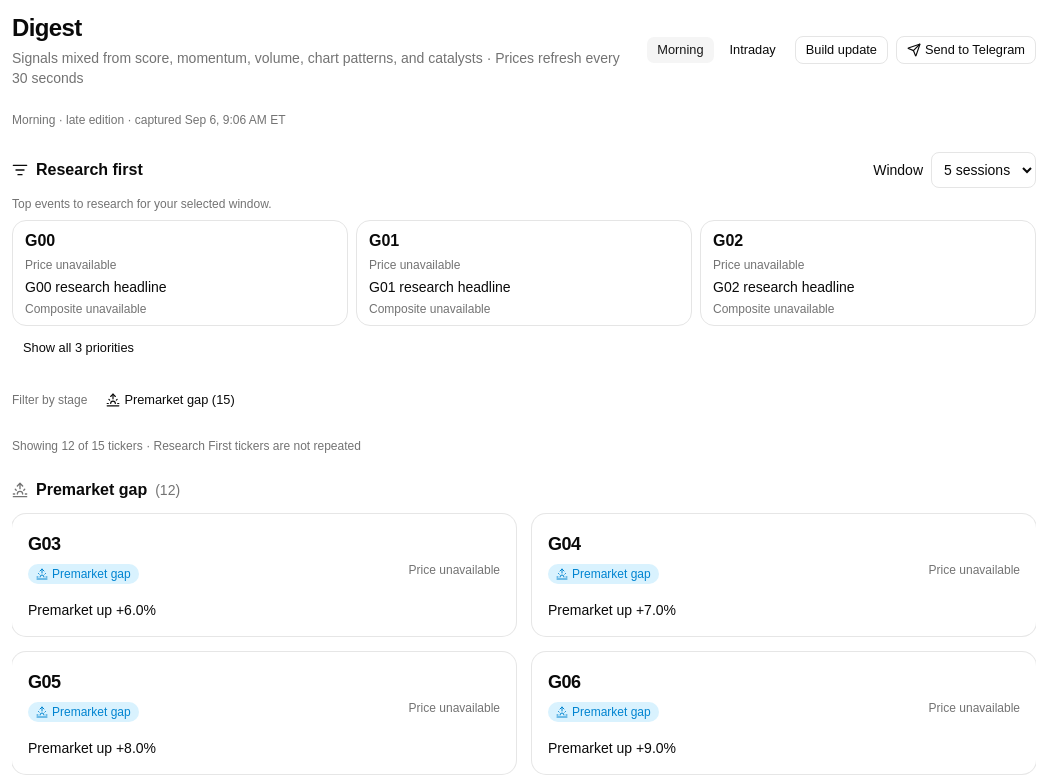
Test case: a stage filter shows every match and clearing it restores the compact view
Click the button "Premarket gap (15)" at (171, 400), box [95, 386, 246, 414]
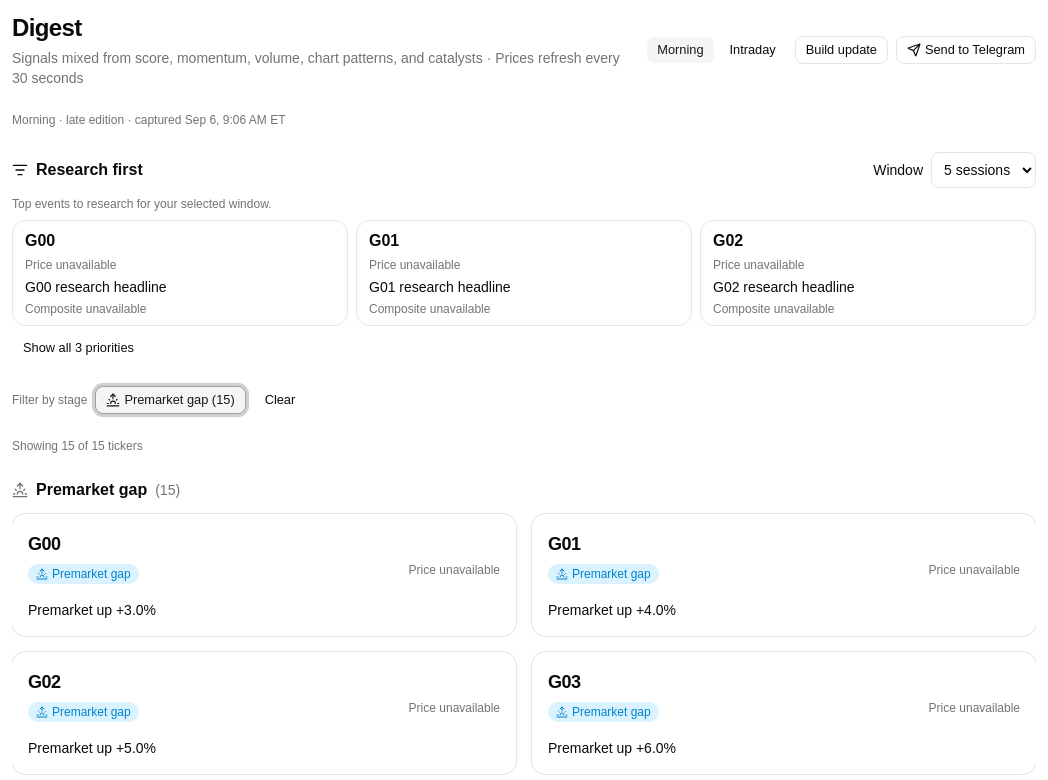
Expected: the link "G00" is shown, [28, 534, 61, 554]
Expected: the text with test id "digest-coverage-count" reads "Showing 15 of 15 tickers", [12, 439, 143, 453]
Click the button "Clear" at (280, 400), box [254, 386, 306, 414]
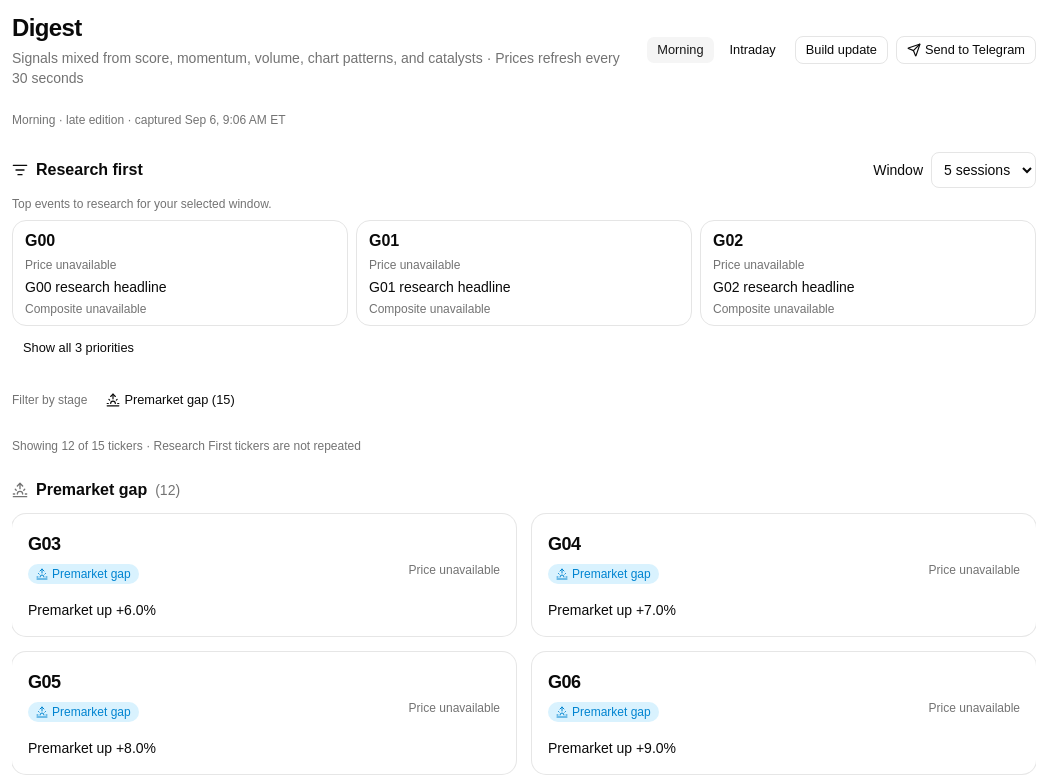
Expected: the text with test id "digest-coverage-count" shows "Showing 12 of 15 tickers", [12, 439, 361, 453]
